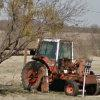Tractor: (28, 31, 100, 100)
